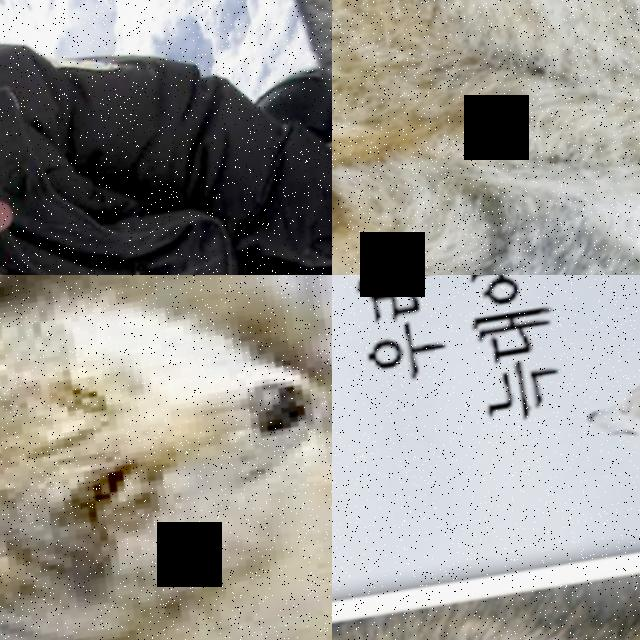wolf: (0, 275, 332, 640), (332, 0, 640, 275), (332, 513, 640, 640), (193, 0, 332, 275), (0, 275, 332, 371), (536, 275, 640, 480)
